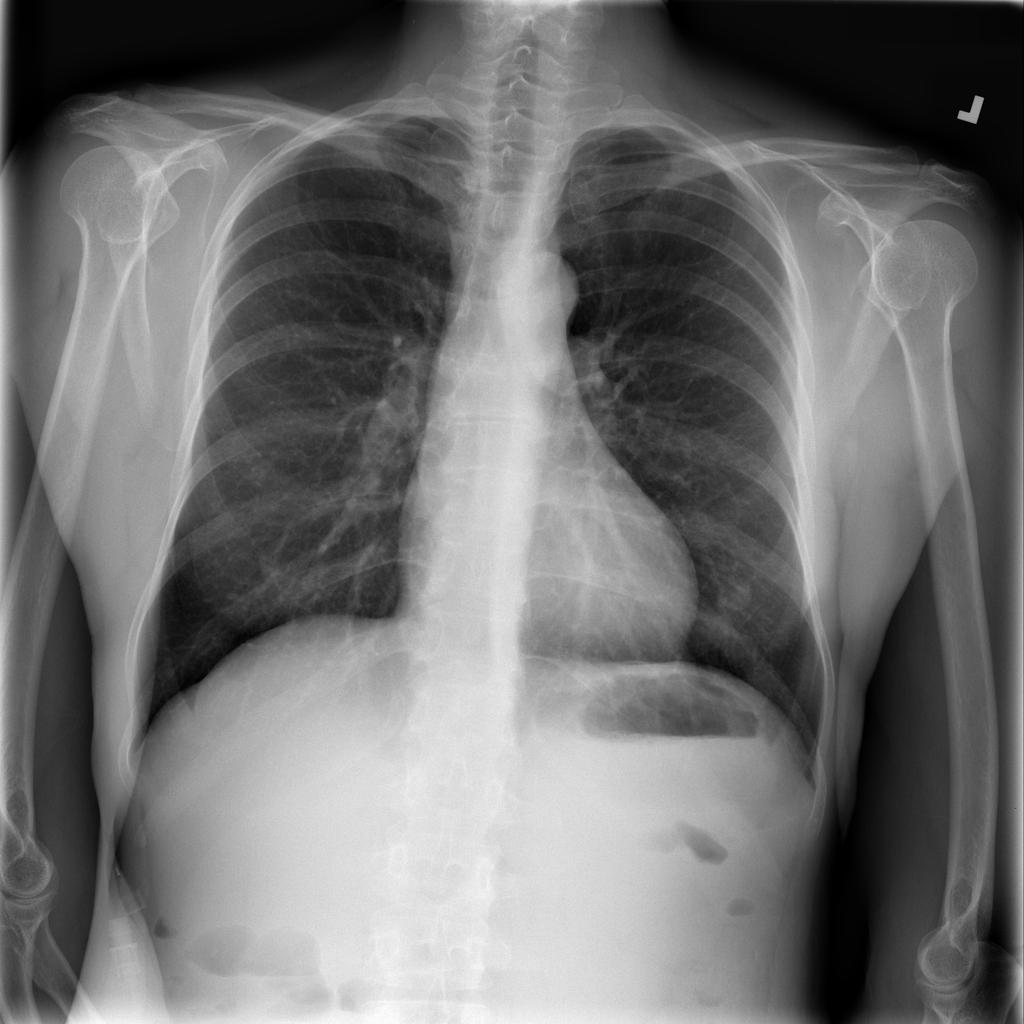nodule: (712, 568, 767, 617)
